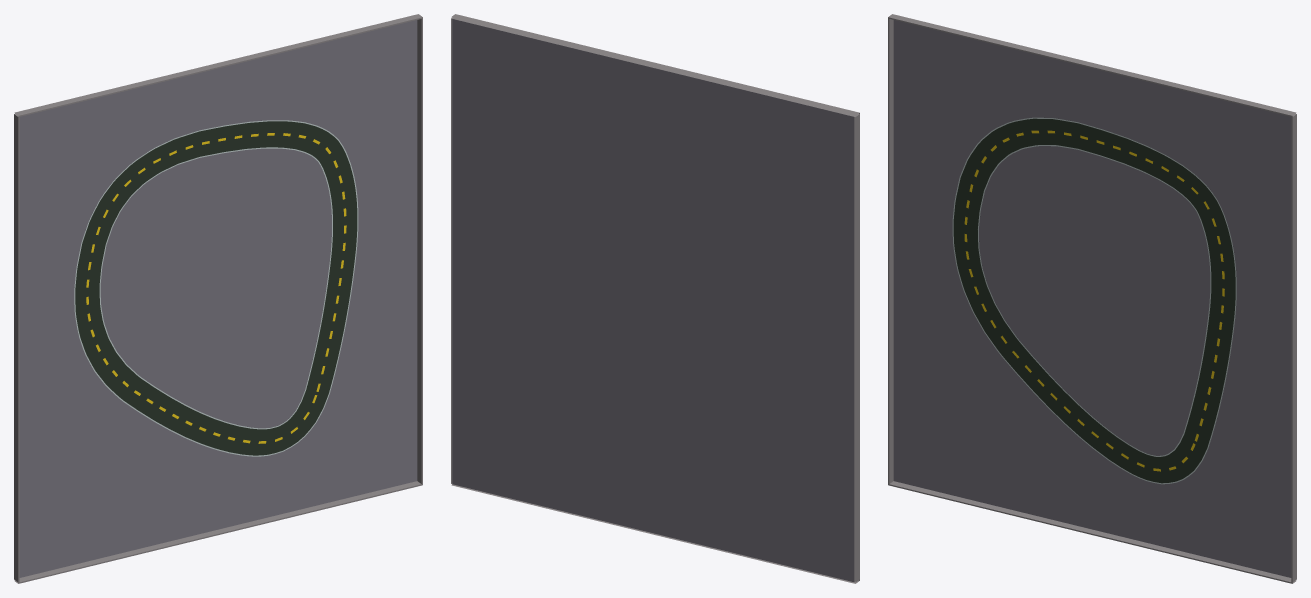
Rendered from track.obj.
3 views of the same model, side by side, from view 1: azimuth 30°, elevation 25°; view 2: azimuth 150°, elevation 25°; view 3: azimuth 330°, elevation 25° (orthographic).
Size of the model in its own units: 16.01 by 17.7 by 0.3.
5 materials, 5 textured.
